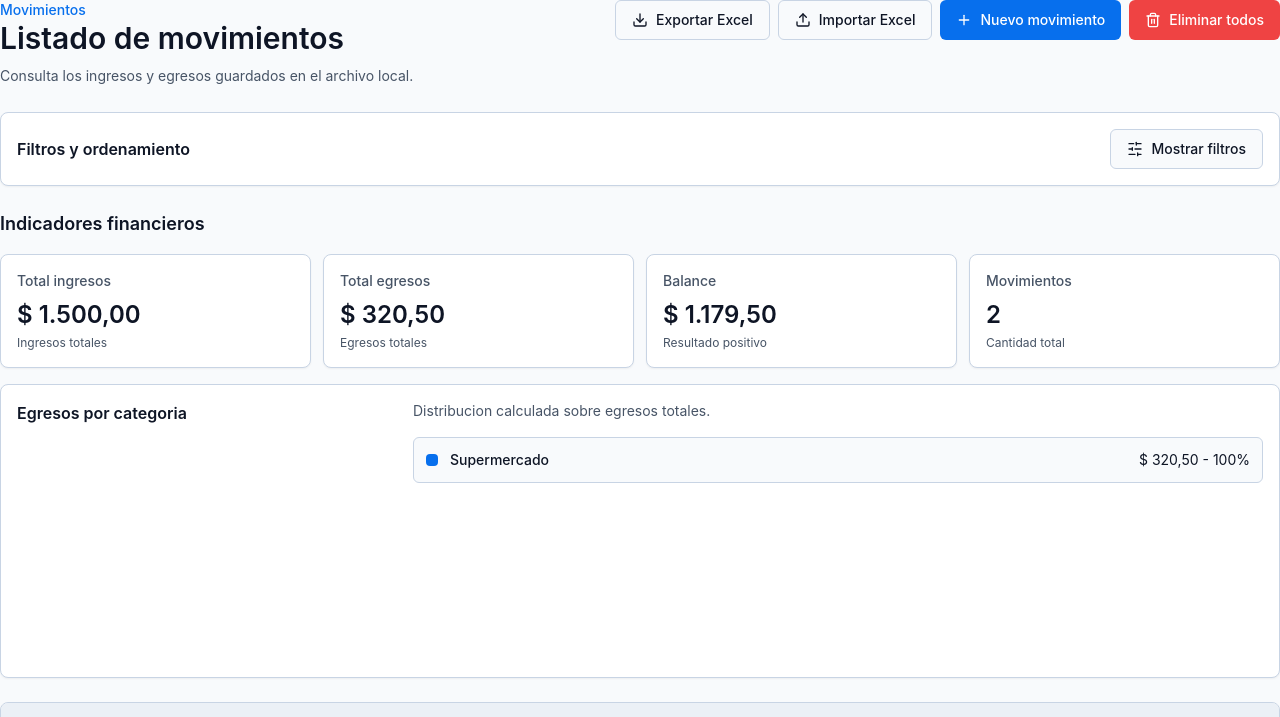
Test: TransactionsPage › TransactionsPage_WhenDeleteAllPasswordIsInvalid_ShouldKeepTransactions
This screenshot has width=1280, height=717.
Click the button "Eliminar todos": x=1205, y=20 [1129,0,1279,40]
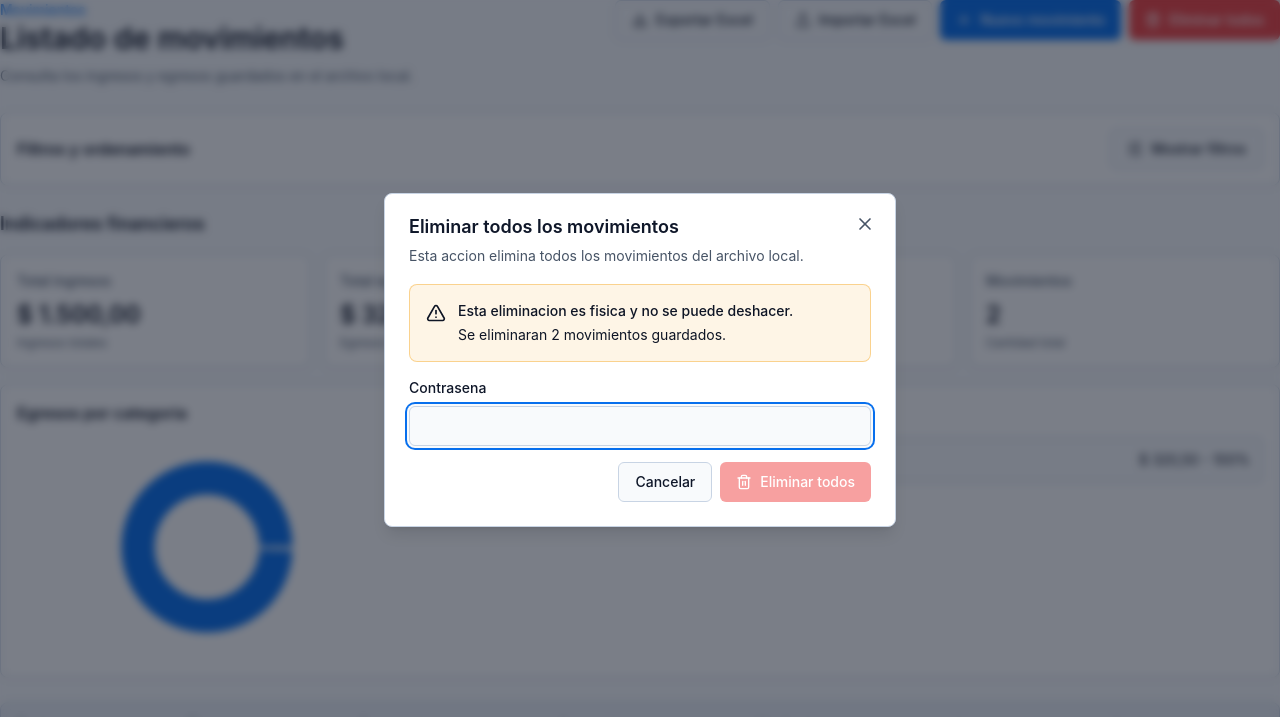
In the password field labelled "Contrasena": x=640, y=426 [409,406,871,446], type "wrong-password"
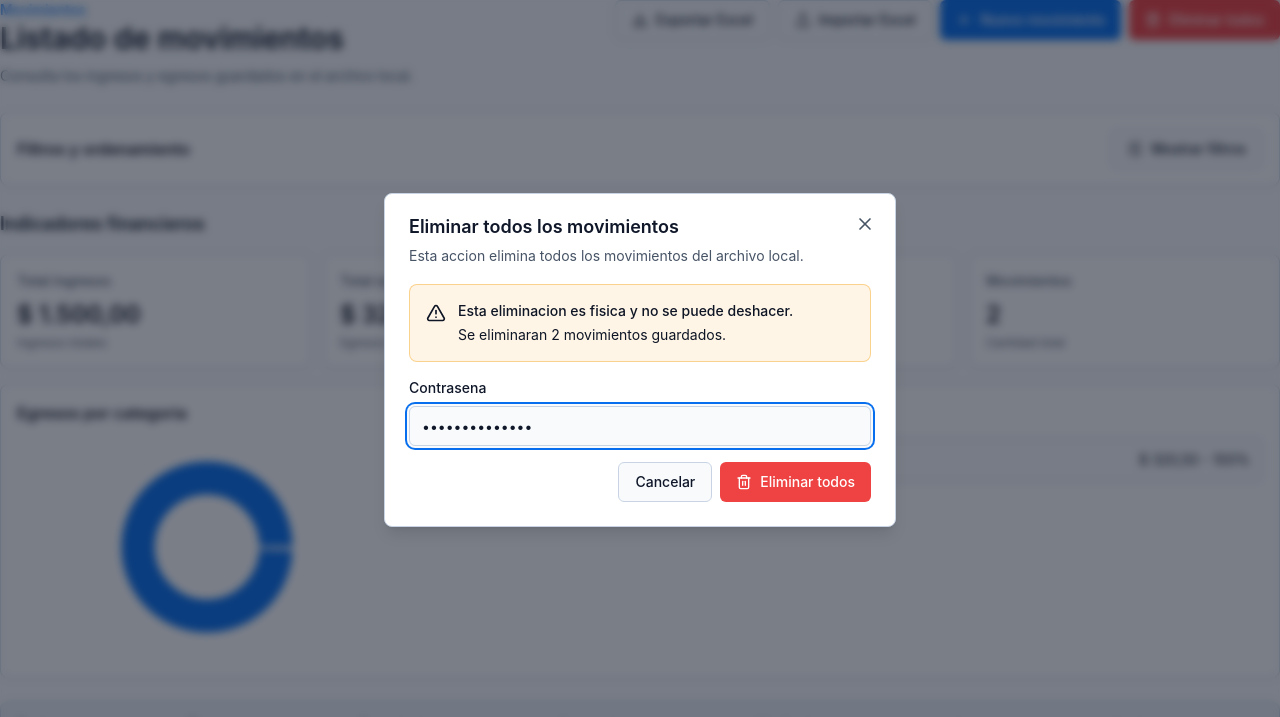
Click the button "Eliminar todos": x=796, y=482 [720,462,871,502]
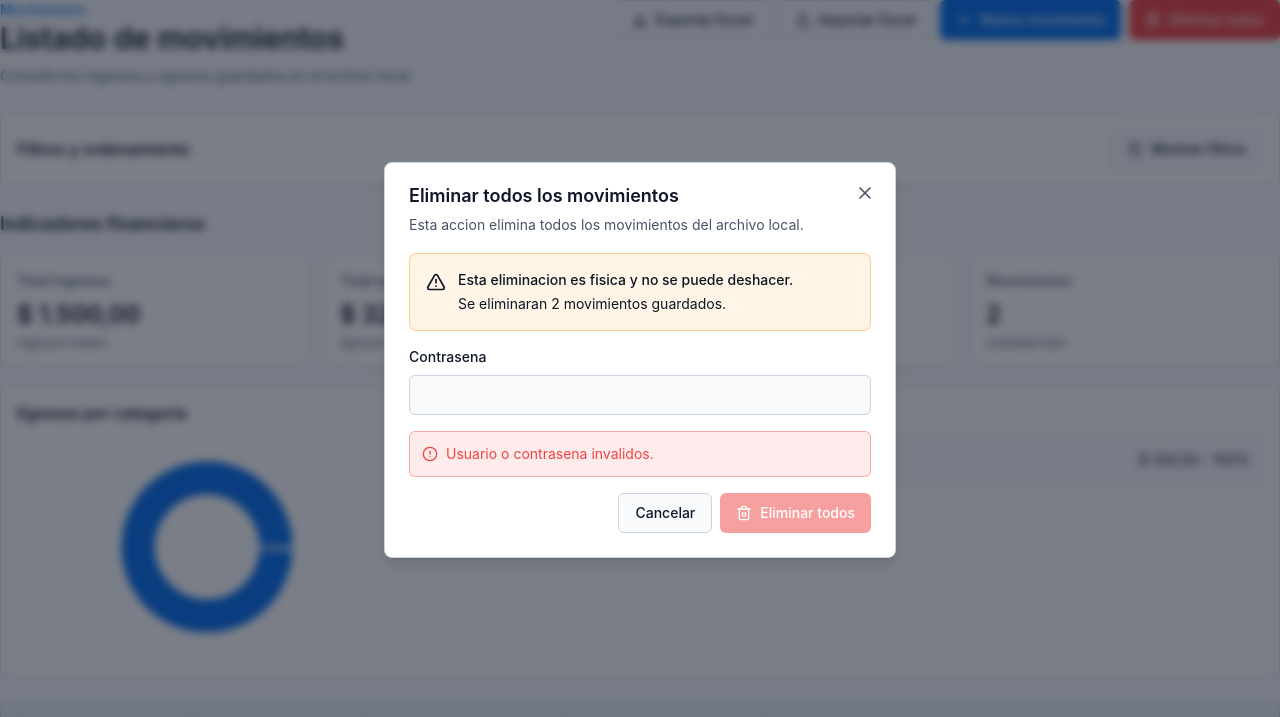
Check: the message reads "Usuario o contrasena invalidos.", box [446,445,654,462]
